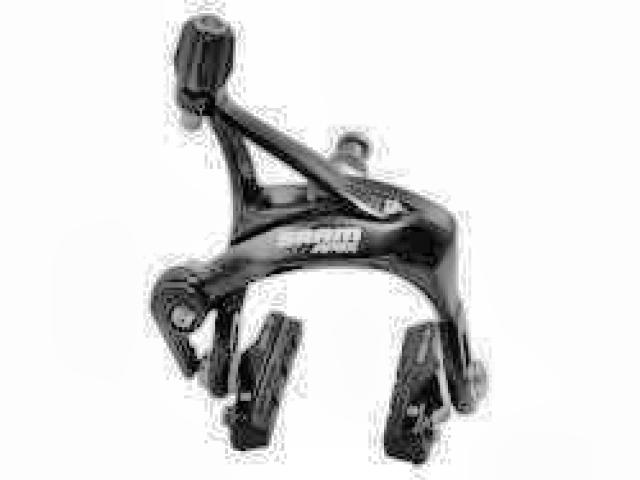rim_brake: (152, 14, 489, 469)
